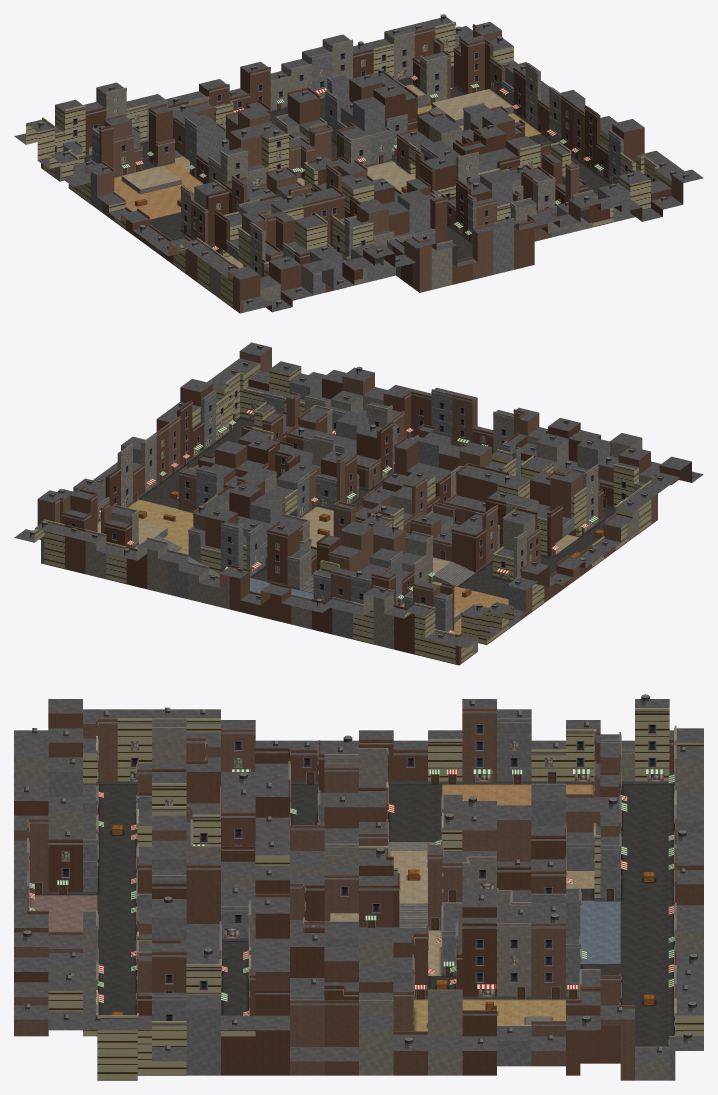
Rendered from oldquarter.gltf.
3 renders of one model, top to bottom at view 1: azimuth 30°, elevation 25°; view 2: azimuth 150°, elevation 25°; view 3: azimuth 270°, elevation 25°, orthographic. The views are drawn at different scales.
Visible parts, largest first — view 1: Quarter, Detail, Windows, Shadows; view 2: Quarter, Detail, Windows, Steps, Shadows; view 3: Quarter, Detail, Windows, Shadows, Steps.
Boxes of the visible parts, box(x1,y1,x2,y2) form: Quarter: box(14, 17, 703, 313); Detail: box(38, 14, 689, 307); Windows: box(55, 39, 654, 272); Shadows: box(84, 67, 610, 246); Quarter: box(14, 342, 703, 665); Detail: box(30, 344, 694, 665); Windows: box(71, 390, 626, 604); Steps: box(154, 535, 475, 593); Shadows: box(98, 418, 614, 622); Quarter: box(14, 699, 703, 1080); Detail: box(23, 694, 697, 1055); Windows: box(28, 724, 675, 1035); Shadows: box(30, 784, 674, 1035); Steps: box(387, 842, 551, 1024).
Bounding box in the file's own units: 132 × 19.9 × 120.
29 materials, 28 textured.
